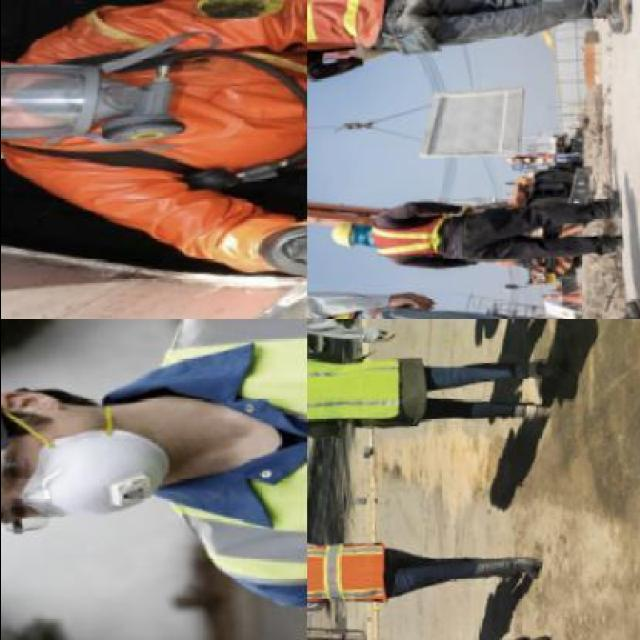helmet: (327, 213, 357, 264)
jacket: (374, 206, 444, 266)
